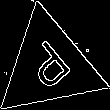P_SE: (19, 35, 78, 97)
